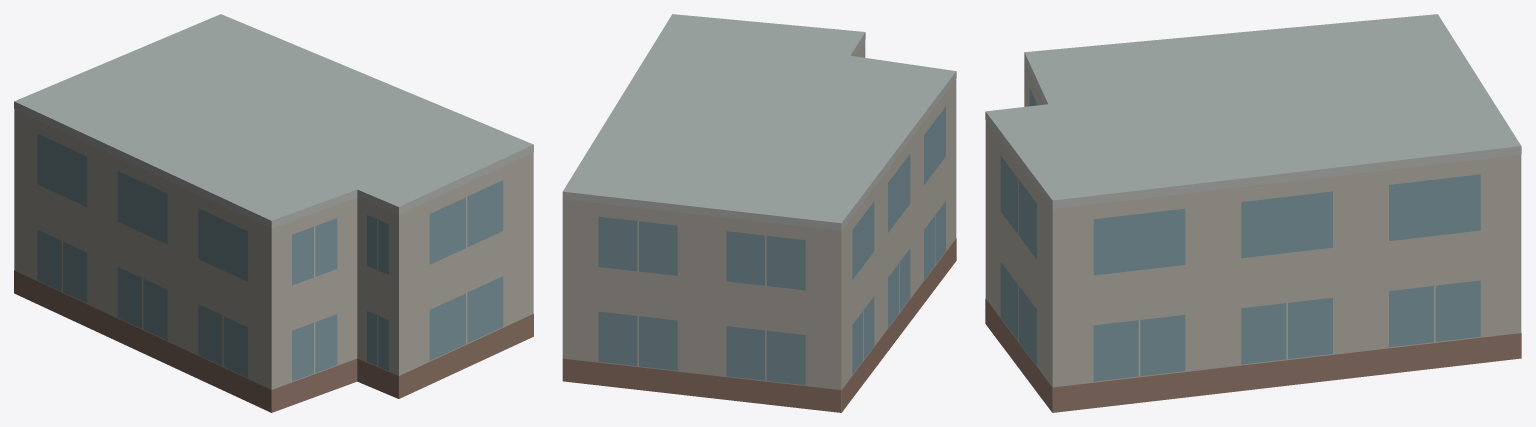
The model's file is survey-upis-33045711.glb.
3 renders of one model, left to right at view 1: azimuth 30°, elevation 25°; view 2: azimuth 150°, elevation 25°; view 3: azimuth 270°, elevation 25°, orthographic. The views are drawn at different scales.
Parts seen in each view (by area): view 1: survey-upis-33045711.tmp; view 2: survey-upis-33045711.tmp; view 3: survey-upis-33045711.tmp.
Boxes of the visible parts, x1=… form: survey-upis-33045711.tmp: x1=14, y1=14, x2=533, y2=412; survey-upis-33045711.tmp: x1=562, y1=14, x2=956, y2=412; survey-upis-33045711.tmp: x1=985, y1=14, x2=1521, y2=412.
Bounding box in the file's own units: 11.5 × 6.1 × 13.96.
